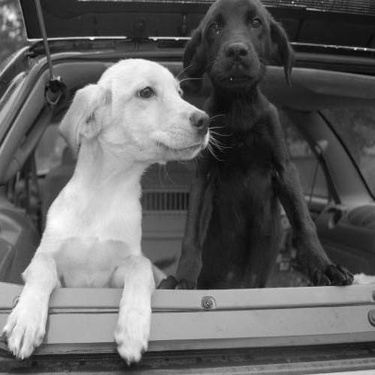dog: (1, 54, 228, 370), (162, 1, 361, 299)
